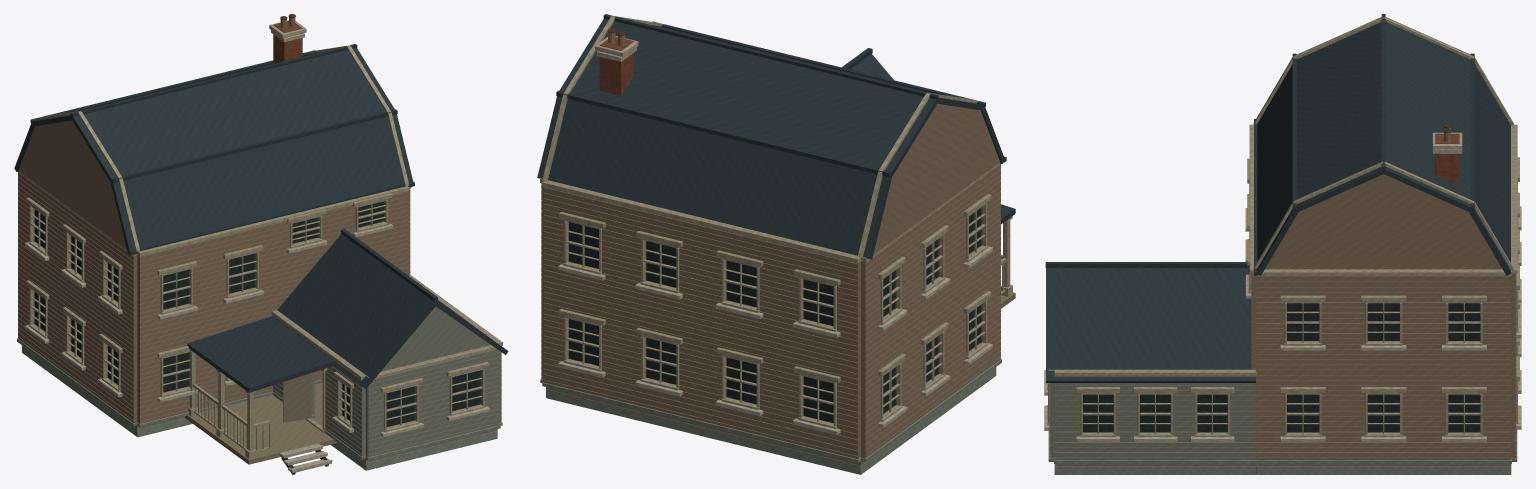
3 renders of one model, left to right at view 1: azimuth 30°, elevation 25°; view 2: azimuth 150°, elevation 25°; view 3: azimuth 270°, elevation 25°, orthographic. The views are drawn at different scales.
Visible parts, largest first — view 1: A011-03_02_Clapboard, A011-03_11_Roof_Tall_Rear_Gambrel, A011-03_11_Roof_Low_Front_Gable, A011-03_01_Wall_Shell, A011-03_04_Architectural_Trim, A011-03_03_Window_Door_Frames, A011-03_12_Roof_Edges, A011-03_06_Glazing, A011-03_11_Roof_Recessed_Side_Veranda, A011-03_07_Floors, A011-03_00_Foundation, A011-03_09_Railings (+4 smaller); view 2: A011-03_02_Clapboard, A011-03_11_Roof_Tall_Rear_Gambrel, A011-03_04_Architectural_Trim, A011-03_03_Window_Door_Frames, A011-03_01_Wall_Shell, A011-03_06_Glazing, A011-03_12_Roof_Edges, A011-03_00_Foundation, A011-03_13_Chimneys, A011-03_07_Floors, A011-03_10_Porch_Supports; view 3: A011-03_02_Clapboard, A011-03_11_Roof_Tall_Rear_Gambrel, A011-03_11_Roof_Low_Front_Gable, A011-03_01_Wall_Shell, A011-03_04_Architectural_Trim, A011-03_06_Glazing, A011-03_03_Window_Door_Frames, A011-03_12_Roof_Edges, A011-03_00_Foundation, A011-03_13_Chimneys, A011-03_07_Floors.
Part boxes in pixels (x1=…): A011-03_02_Clapboard: x1=18, y1=172, x2=501, y2=457; A011-03_11_Roof_Tall_Rear_Gambrel: x1=14, y1=47, x2=413, y2=253; A011-03_11_Roof_Low_Front_Gable: x1=272, y1=234, x2=508, y2=388; A011-03_01_Wall_Shell: x1=18, y1=120, x2=500, y2=456; A011-03_04_Architectural_Trim: x1=17, y1=171, x2=502, y2=460; A011-03_03_Window_Door_Frames: x1=29, y1=199, x2=485, y2=432; A011-03_12_Roof_Edges: x1=30, y1=44, x2=437, y2=301; A011-03_06_Glazing: x1=34, y1=201, x2=480, y2=426; A011-03_11_Roof_Recessed_Side_Veranda: x1=187, y1=316, x2=333, y2=392; A011-03_07_Floors: x1=133, y1=382, x2=497, y2=464; A011-03_00_Foundation: x1=22, y1=345, x2=497, y2=470; A011-03_09_Railings: x1=192, y1=383, x2=270, y2=452; A011-03_02_Clapboard: x1=541, y1=164, x2=1000, y2=458; A011-03_11_Roof_Tall_Rear_Gambrel: x1=537, y1=18, x2=1004, y2=259; A011-03_04_Architectural_Trim: x1=540, y1=163, x2=1001, y2=462; A011-03_03_Window_Door_Frames: x1=563, y1=202, x2=987, y2=428; A011-03_01_Wall_Shell: x1=542, y1=103, x2=999, y2=458; A011-03_06_Glazing: x1=569, y1=208, x2=981, y2=422; A011-03_12_Roof_Edges: x1=542, y1=14, x2=1006, y2=257; A011-03_00_Foundation: x1=546, y1=367, x2=996, y2=474; A011-03_13_Chimneys: x1=595, y1=28, x2=638, y2=95; A011-03_07_Floors: x1=546, y1=292, x2=1015, y2=465; A011-03_10_Porch_Supports: x1=1001, y1=216, x2=1012, y2=296; A011-03_02_Clapboard: x1=1049, y1=273, x2=1516, y2=460; A011-03_11_Roof_Tall_Rear_Gambrel: x1=1257, y1=17, x2=1511, y2=275; A011-03_11_Roof_Low_Front_Gable: x1=1046, y1=268, x2=1255, y2=382; A011-03_01_Wall_Shell: x1=1050, y1=174, x2=1515, y2=459; A011-03_04_Architectural_Trim: x1=1044, y1=124, x2=1521, y2=463; A011-03_06_Glazing: x1=1083, y1=303, x2=1480, y2=432; A011-03_03_Window_Door_Frames: x1=1047, y1=182, x2=1518, y2=436; A011-03_12_Roof_Edges: x1=1045, y1=14, x2=1513, y2=275; A011-03_00_Foundation: x1=1054, y1=466, x2=1511, y2=474; A011-03_13_Chimneys: x1=1432, y1=124, x2=1462, y2=186; A011-03_07_Floors: x1=1054, y1=464, x2=1511, y2=466.
Size of the model in its own units: 10.82 by 10.92 by 14.22.
Materials: 12 (12 with a texture image).
